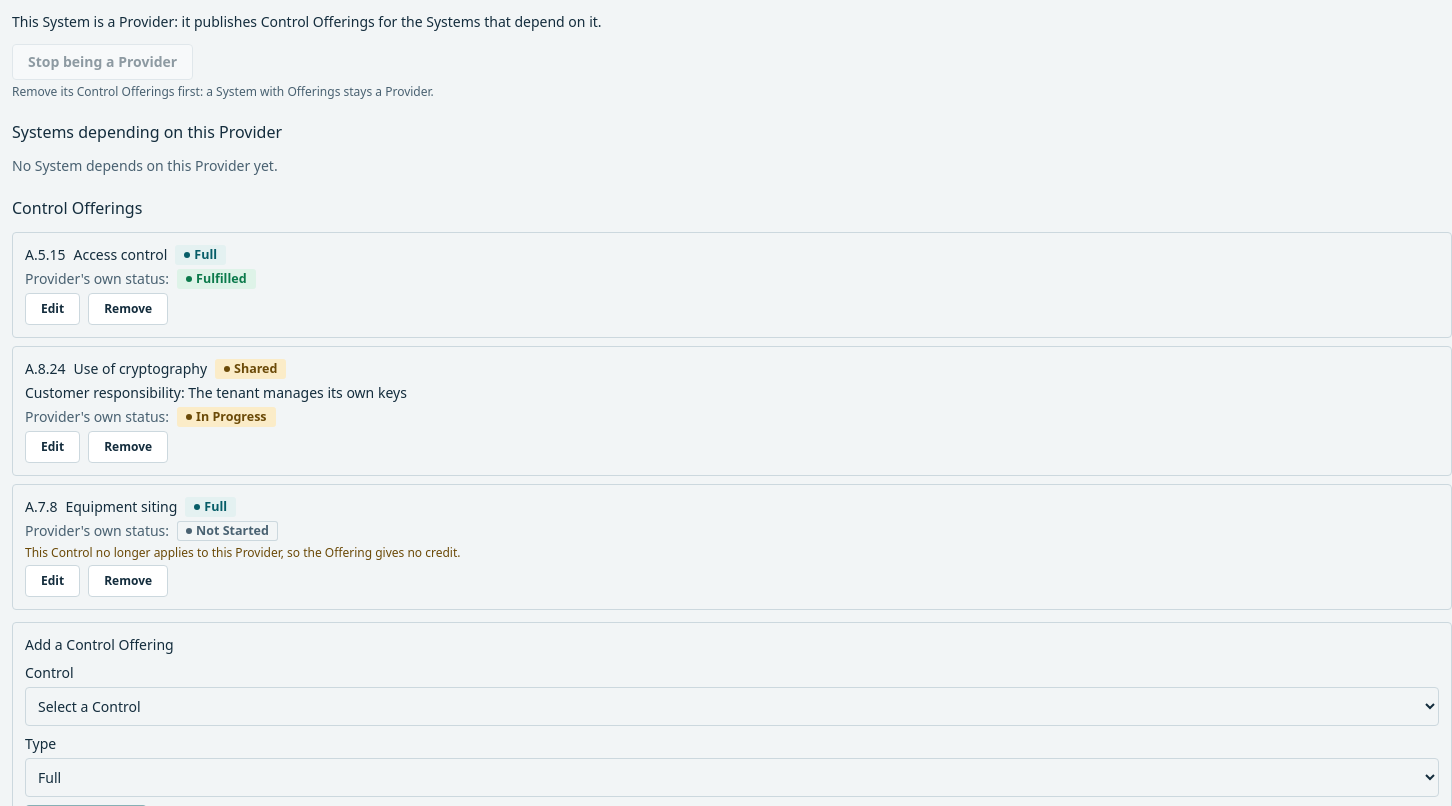
Scenario: SystemProvider (#123) › editing an Offering › changes a Shared Offering's text and updates the row from the response
Click the button with aria-label "Edit Offering A.8.24": (53, 447) [25,431,80,463]
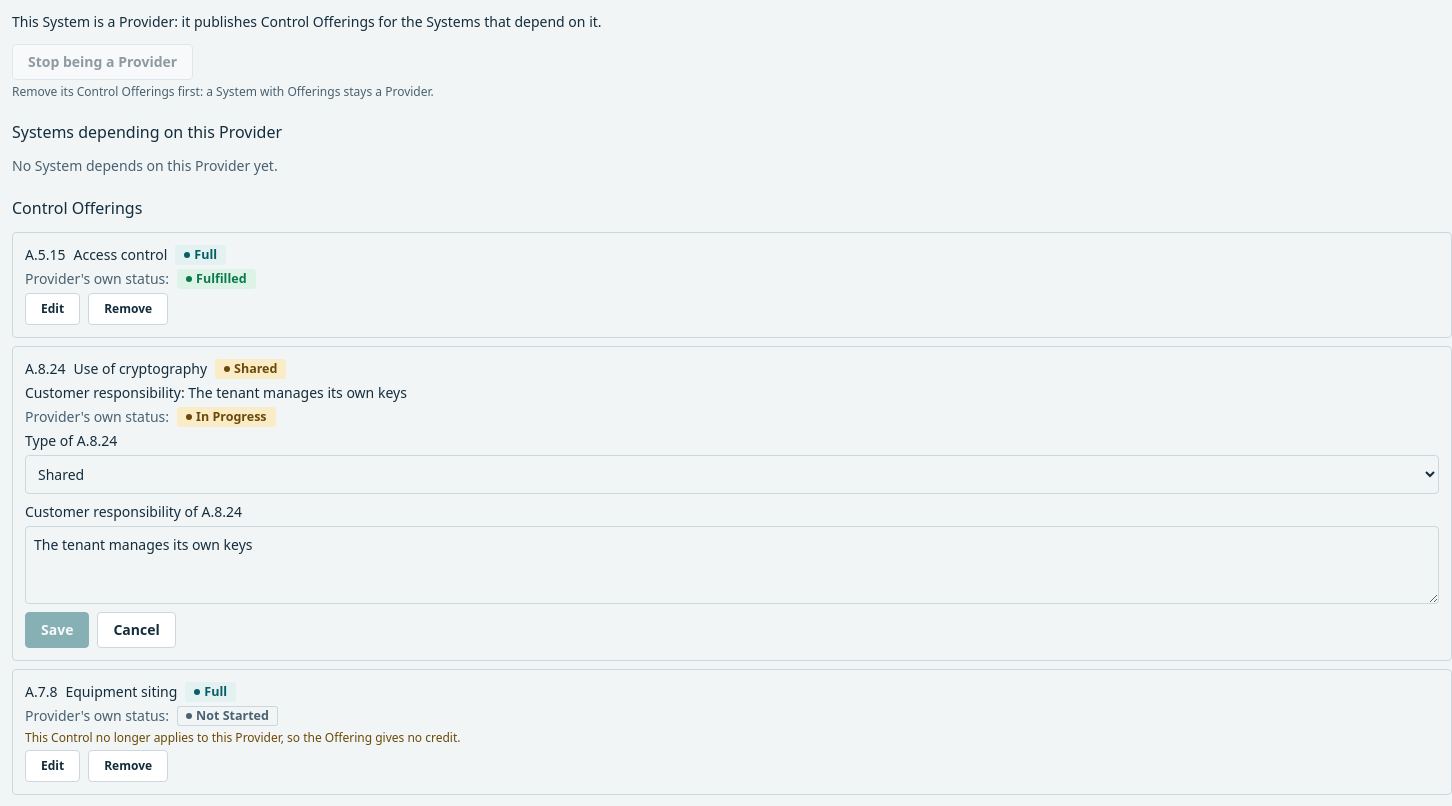
Check: the text box labelled "Customer responsibility of A.8.24" holds "The tenant manages its own keys"
Check: the button "Save" is disabled, box [25,612,89,648]
Clear the text box labelled "Customer responsibility of A.8.24": (732, 565) [25,526,1439,604]
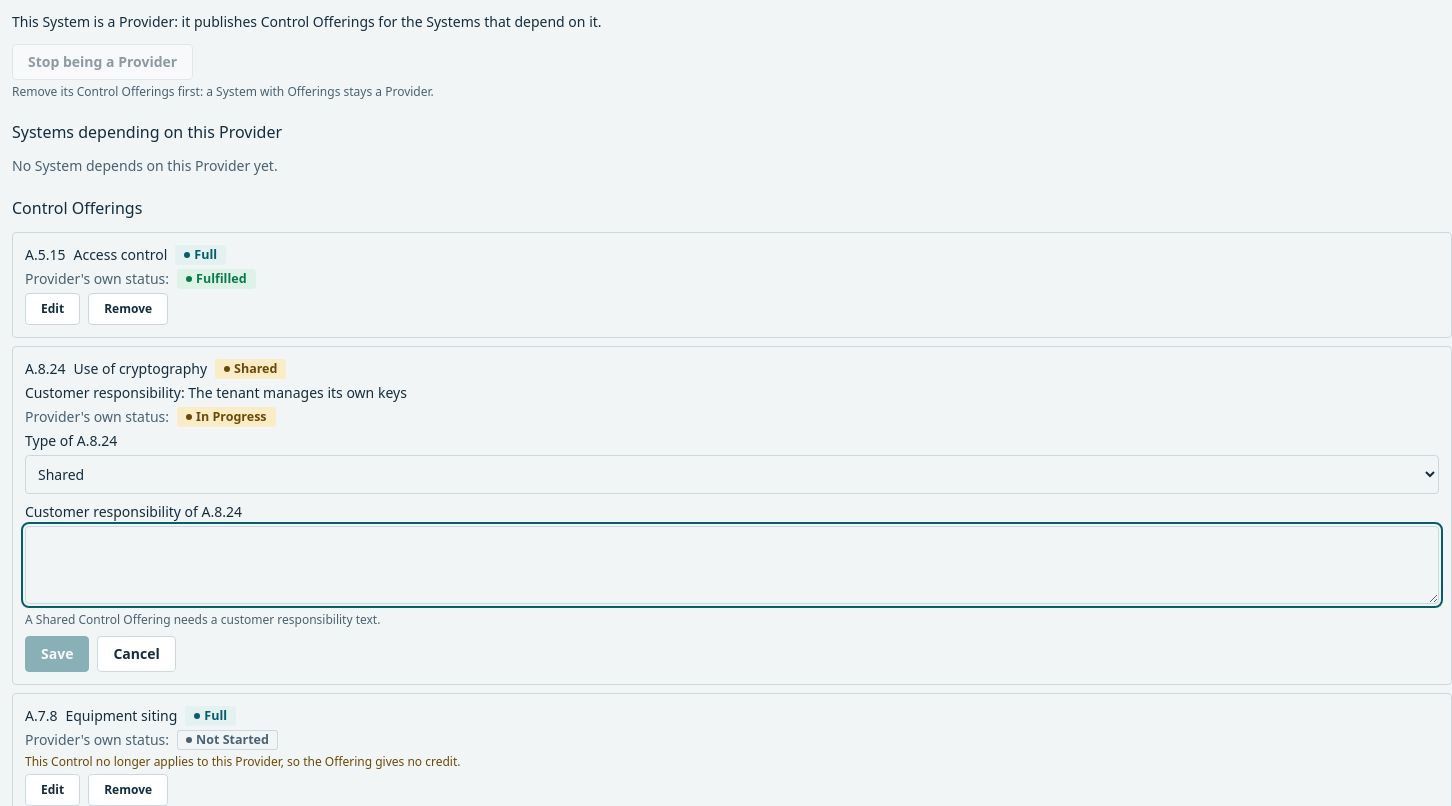
Check: the button "Save" is disabled, box [25,636,89,672]
In the text box labelled "Customer responsibility of A.8.24": (732, 565) [25,526,1439,604], type "Keys and backups"
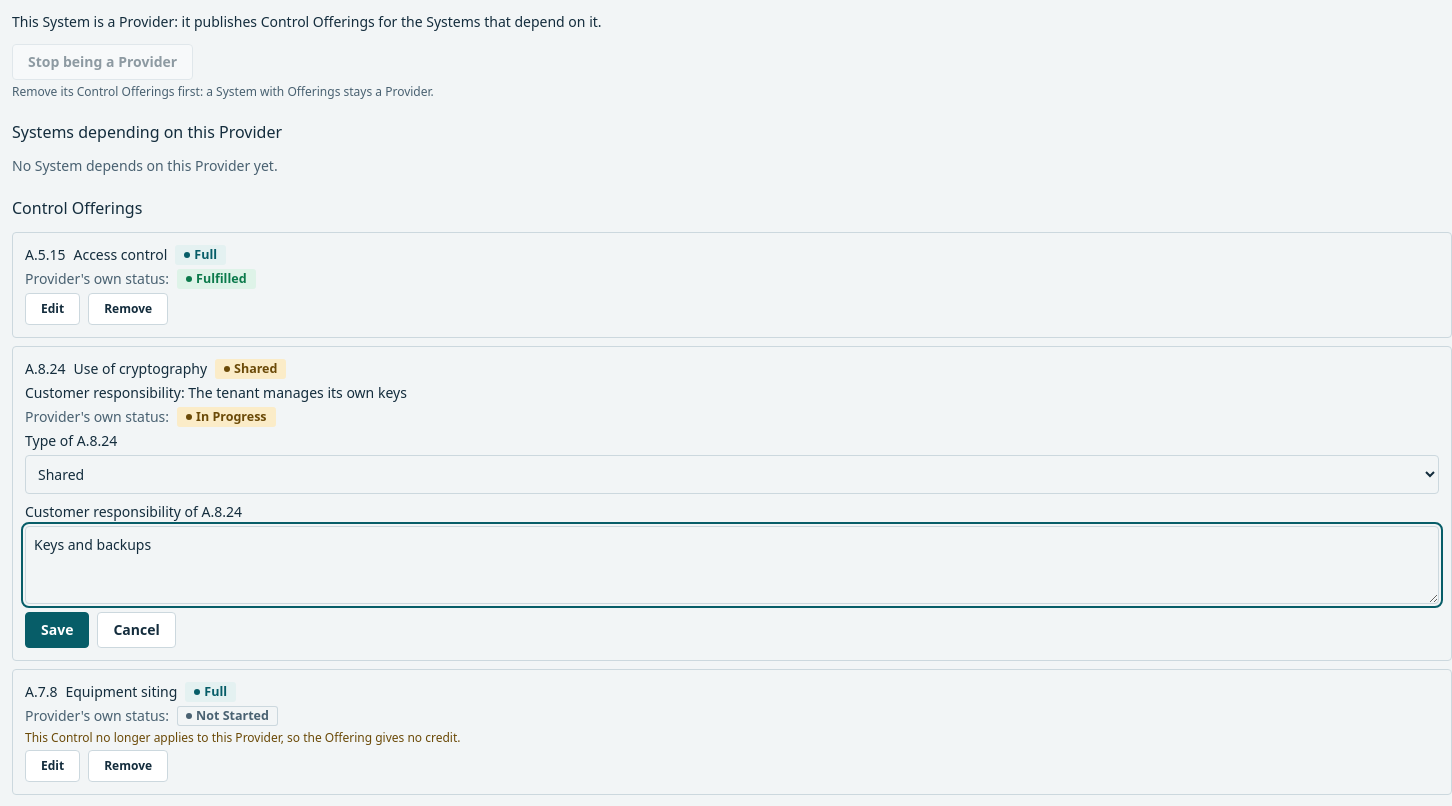
Click the button "Save": (57, 630) [25,612,89,648]
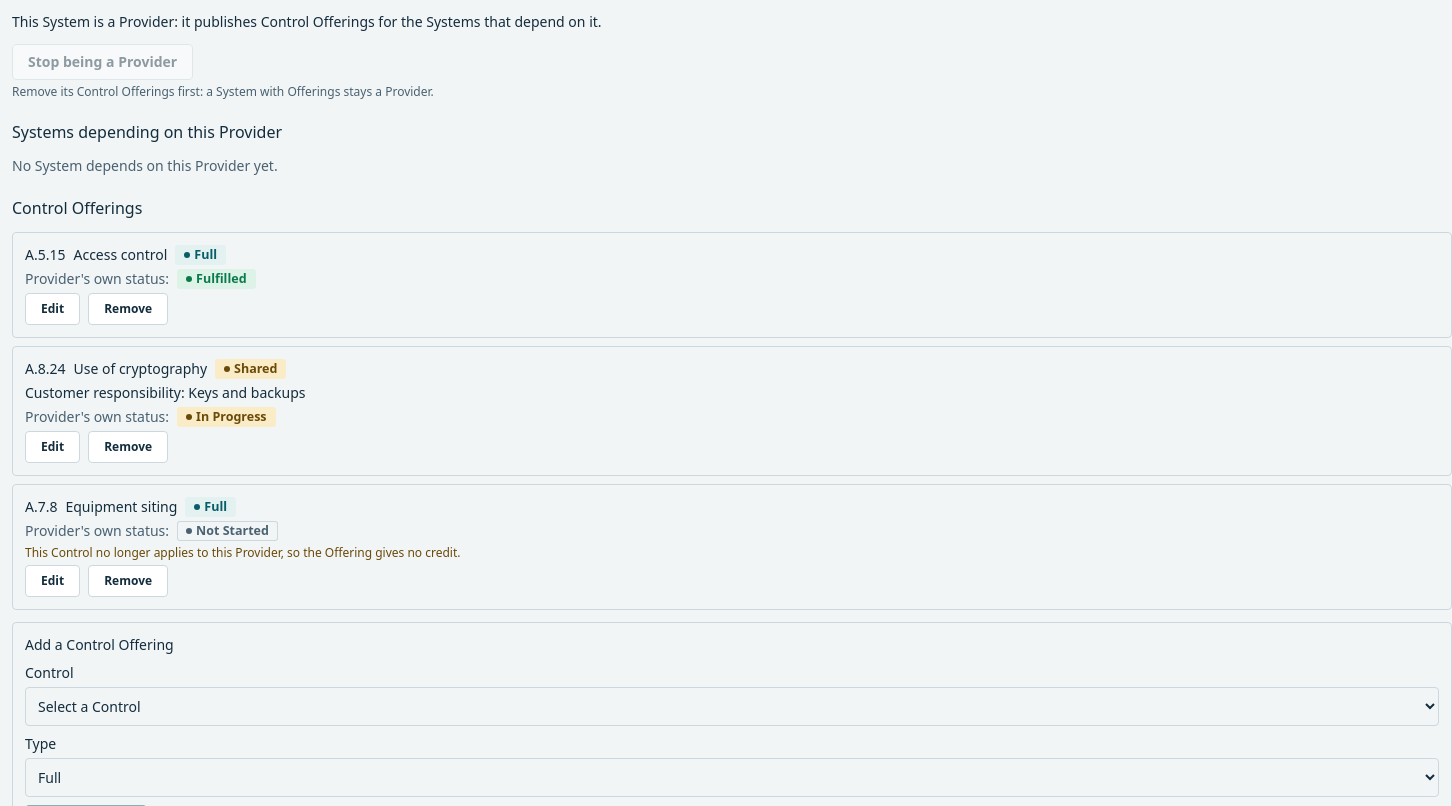
Check: the text "Keys and backups" is shown, box [188,383,306,402]
Check: the label labelled "Customer responsibility of A.8.24" is gone
